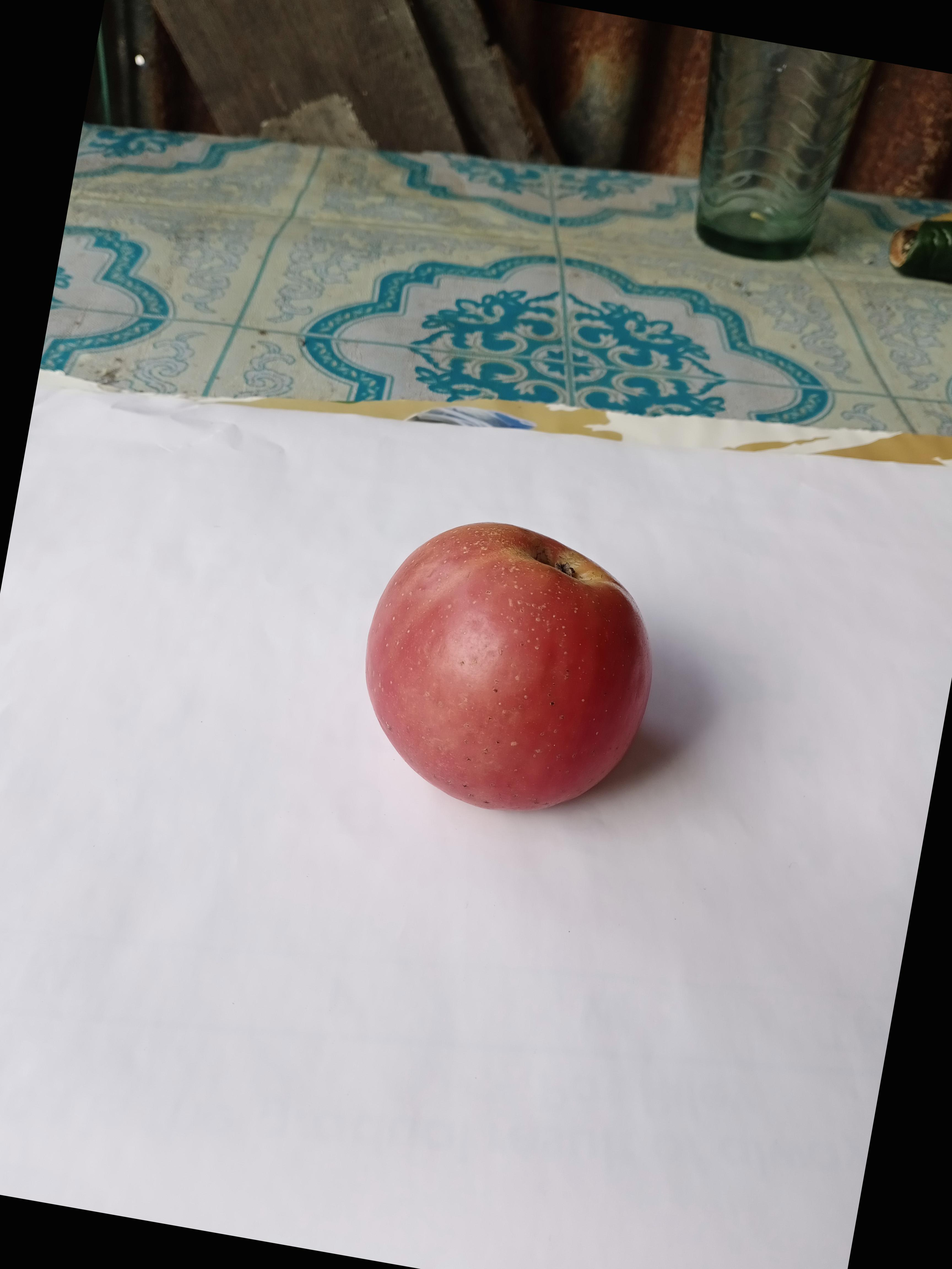Apple Ripe: (471, 389, 842, 764)
